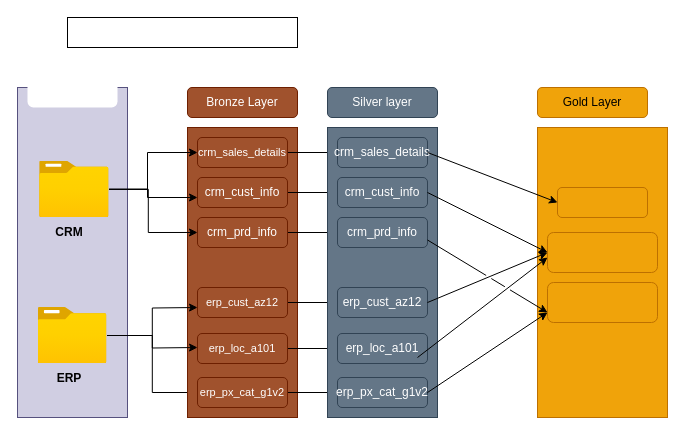
This 685x435 diagram has some shape labels left out. The centre of each missing label's shape, as x and y in pixels:
"Data Flow Diagram" goes at (x=182, y=32).
"dimension_customers" goes at (x=602, y=252).
"dimension_products" goes at (x=602, y=302).
"fact_sales" goes at (x=602, y=202).
"Sources" goes at (x=72, y=87).
